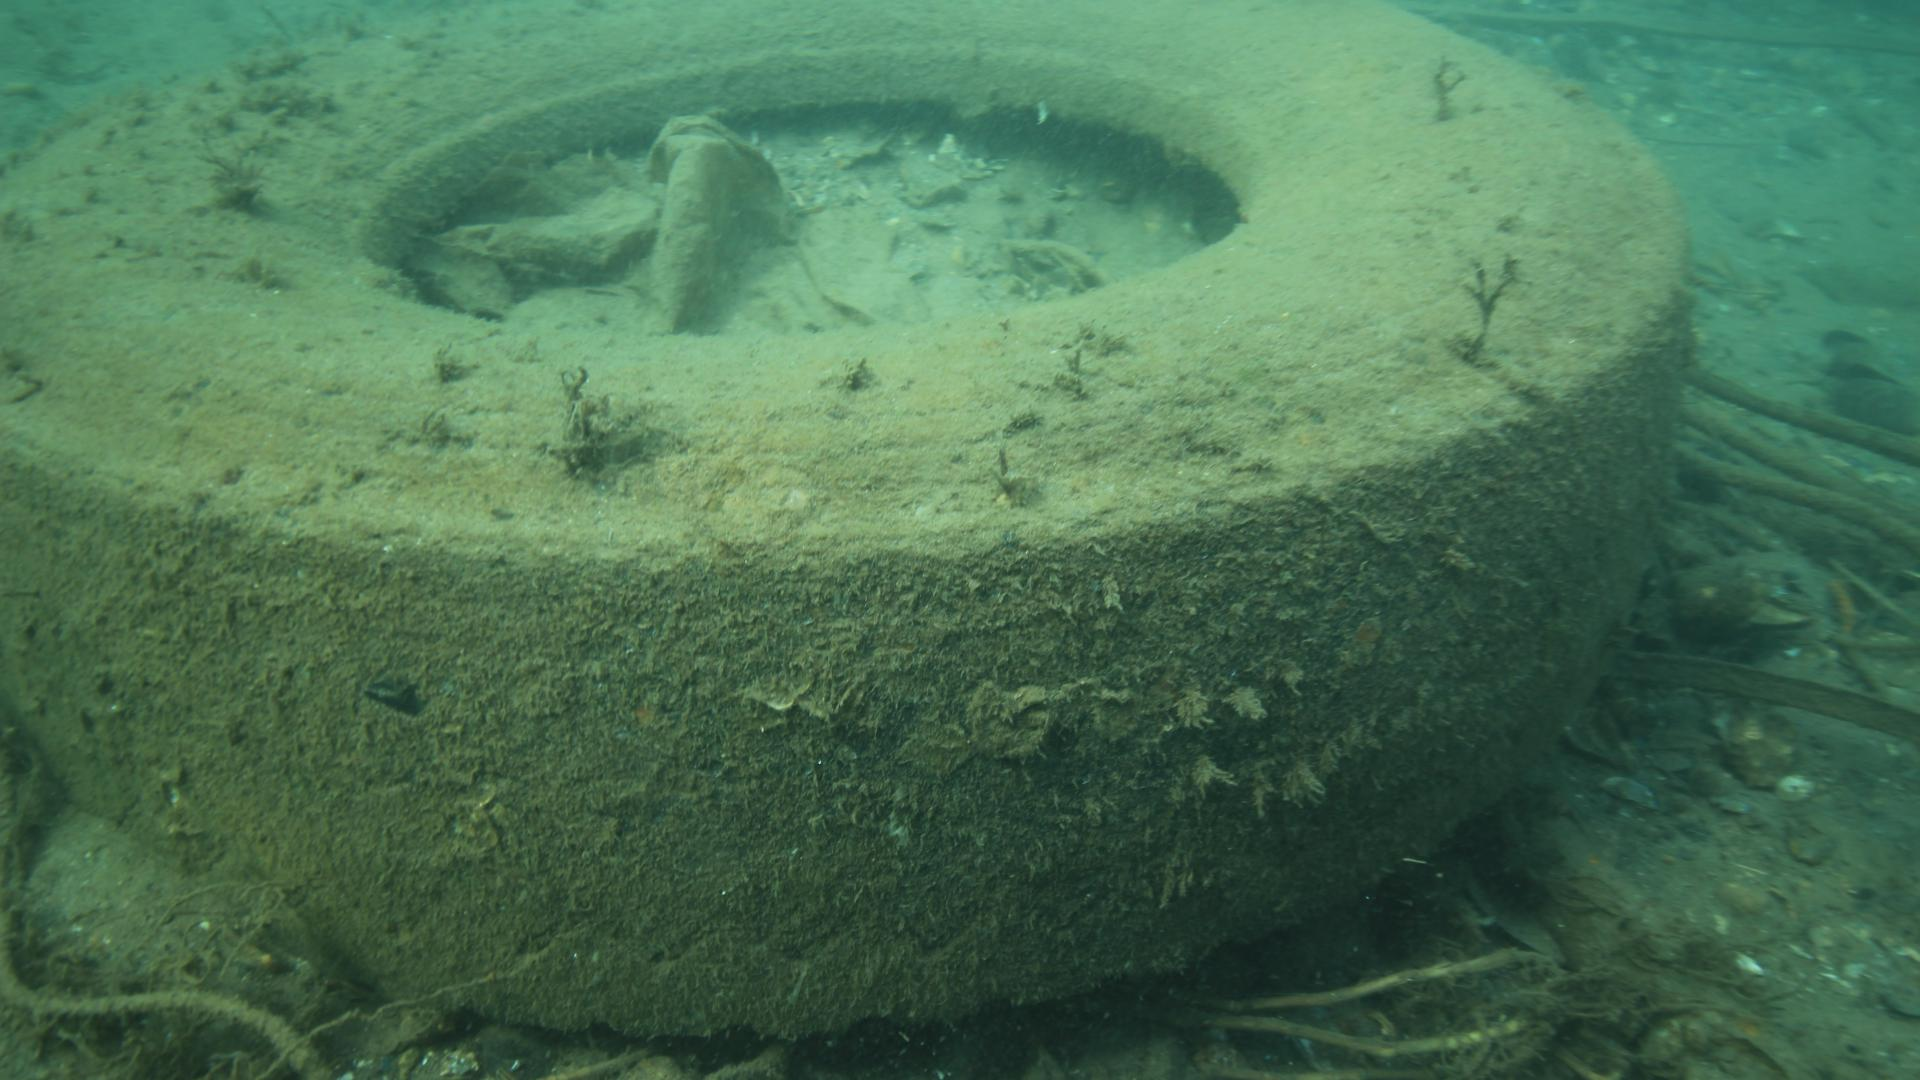rope: (0, 947, 331, 1080)
tire: (0, 0, 1696, 1040)
